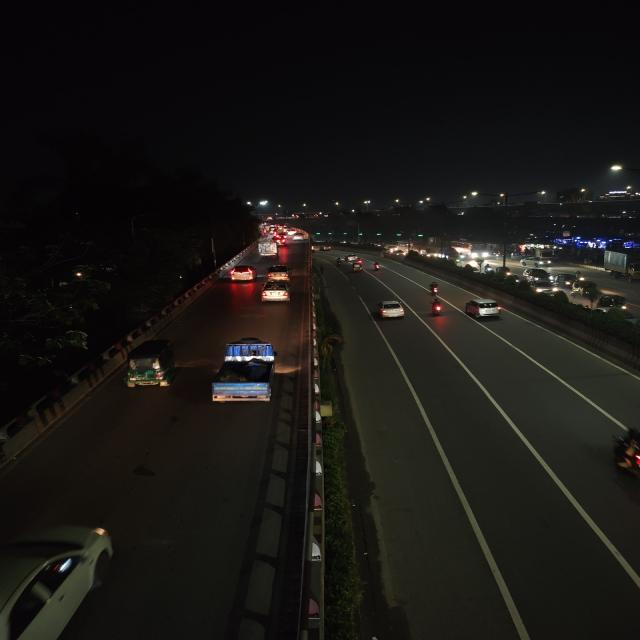bus: (454, 242, 493, 260)
car: (0, 515, 124, 640), (464, 297, 502, 320), (260, 278, 292, 304), (376, 298, 406, 320), (228, 264, 256, 283), (528, 279, 559, 296), (524, 268, 556, 284), (265, 264, 292, 280), (521, 256, 551, 266), (292, 232, 308, 242), (341, 254, 361, 262), (319, 244, 332, 252)
cng: (122, 337, 180, 392), (596, 293, 630, 311), (573, 280, 598, 297), (560, 274, 576, 288), (349, 261, 364, 273)
motorcycle: (608, 424, 640, 484), (427, 296, 447, 318), (427, 280, 442, 296), (370, 260, 382, 272), (335, 257, 342, 267)
pickup_van: (205, 334, 280, 409)
truck: (604, 248, 639, 281), (258, 240, 278, 259)
